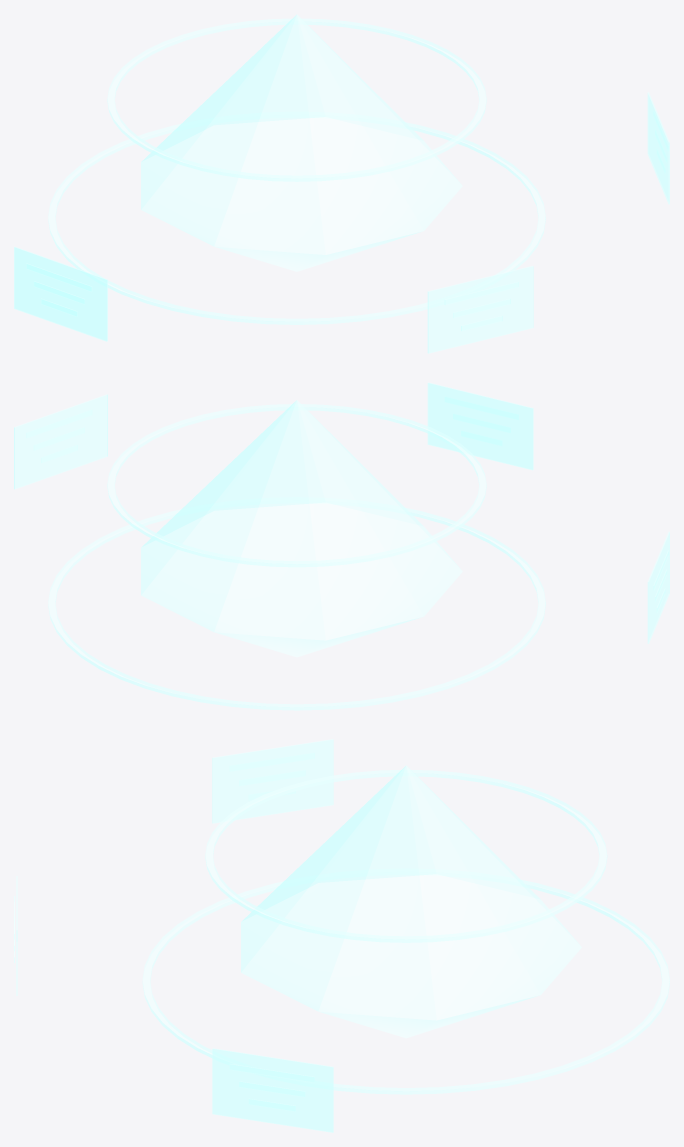
Rendered from SM_CommandCenter_HoloSpin.fbx.
The picture shows the model from 3 angles, top to bottom: view 1: azimuth 30°, elevation 25°; view 2: azimuth 150°, elevation 25°; view 3: azimuth 270°, elevation 25°; orthographic projection. The views are drawn at different scales.
Visible parts, largest first — view 1: SM_CommandCenter_HoloSpin; view 2: SM_CommandCenter_HoloSpin; view 3: SM_CommandCenter_HoloSpin.
Part boxes in pixels (x1,y1,x2,y2): SM_CommandCenter_HoloSpin: (14,14,669,353); SM_CommandCenter_HoloSpin: (14,382,669,710); SM_CommandCenter_HoloSpin: (14,739,669,1132).
Size of the model in its own units: 3.09 by 1.2 by 2.61.
